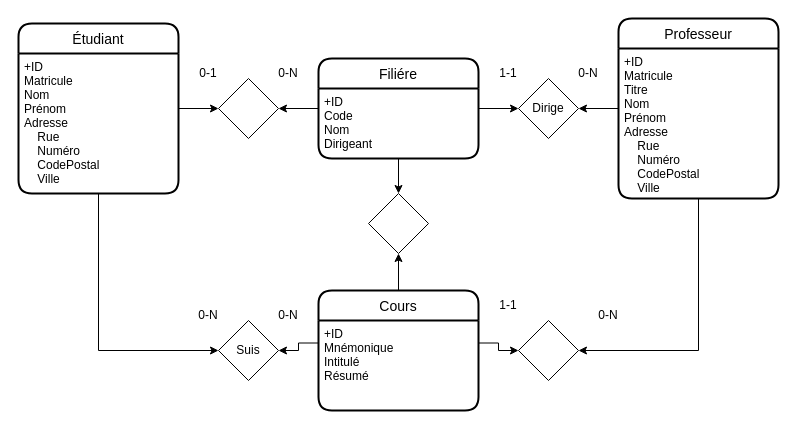
The diagram is 796 pixels wide and 428 high, and some of its shapes have lost their labels. The centre of each missing label's shape, as x and y in pixels:
"Contient" belongs at pixel 398 223.
"Fait" belongs at pixel 548 350.
"Inscrit" belongs at pixel 248 108.
